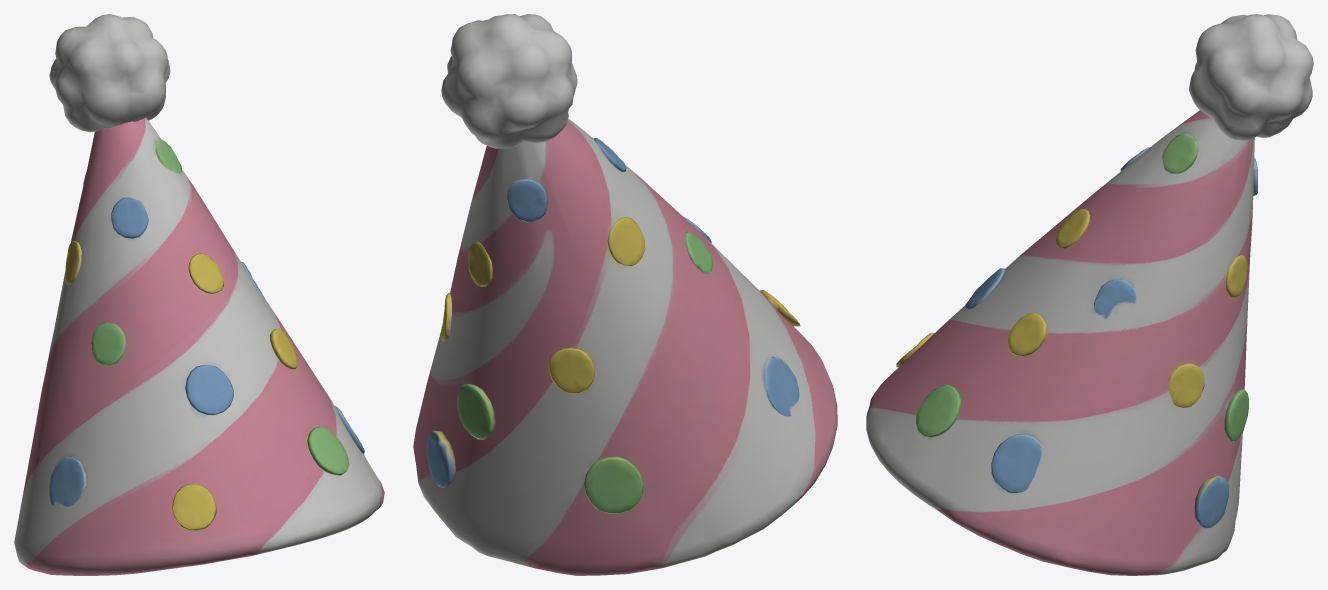
File: optimized_glb.glb
The picture shows the model from 3 angles, left to right: view 1: azimuth 30°, elevation 25°; view 2: azimuth 150°, elevation 25°; view 3: azimuth 270°, elevation 25°; orthographic projection. The views are drawn at different scales.
Parts seen in each view (by area): view 1: party-hat; view 2: party-hat; view 3: party-hat.
Part boxes in pixels (box(x1,y1,x2,y2)): party-hat: box(14, 14, 384, 575); party-hat: box(413, 14, 837, 575); party-hat: box(866, 14, 1313, 575).
Size of the model in its own units: 0.7012 by 0.998 by 0.7832.
Materials: 1 (1 with a texture image).
